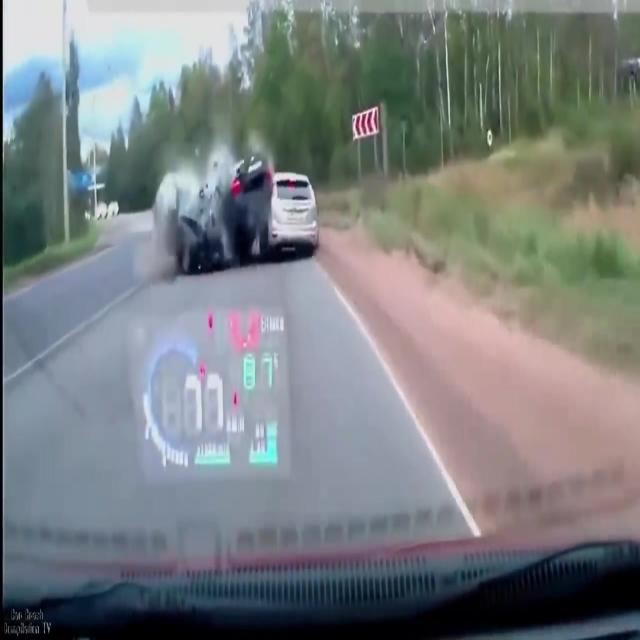accident: (134, 144, 270, 287)
